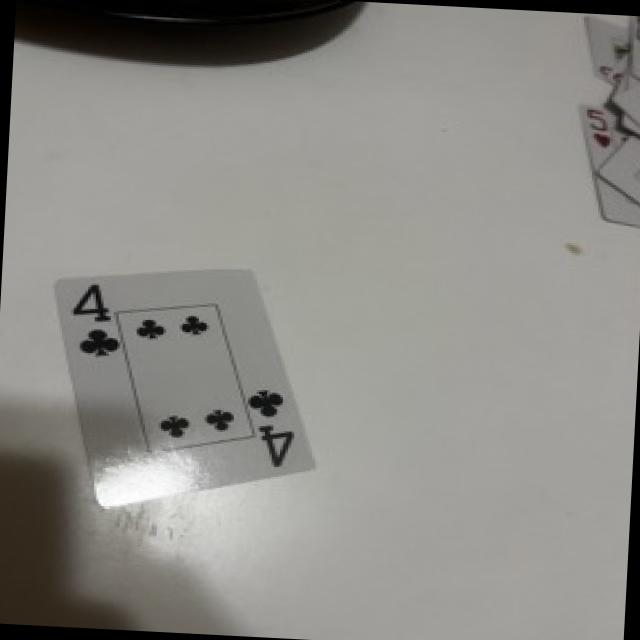4 of clubs: (58, 271, 313, 507)
